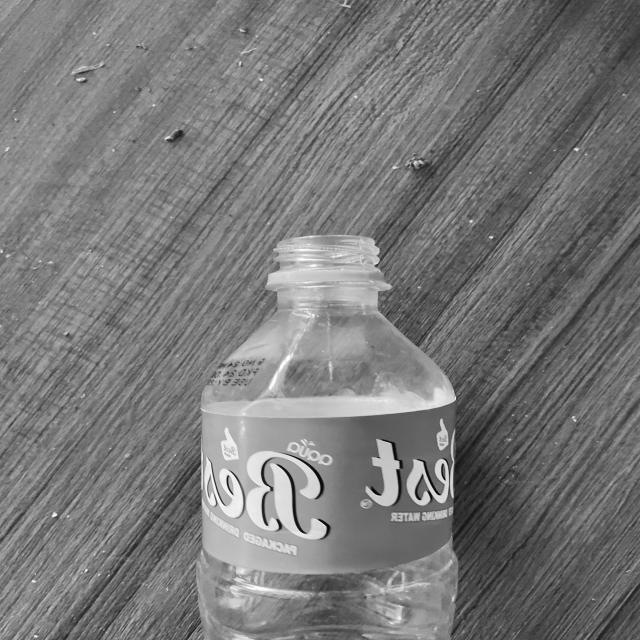open-cap: (266, 232, 386, 290)
